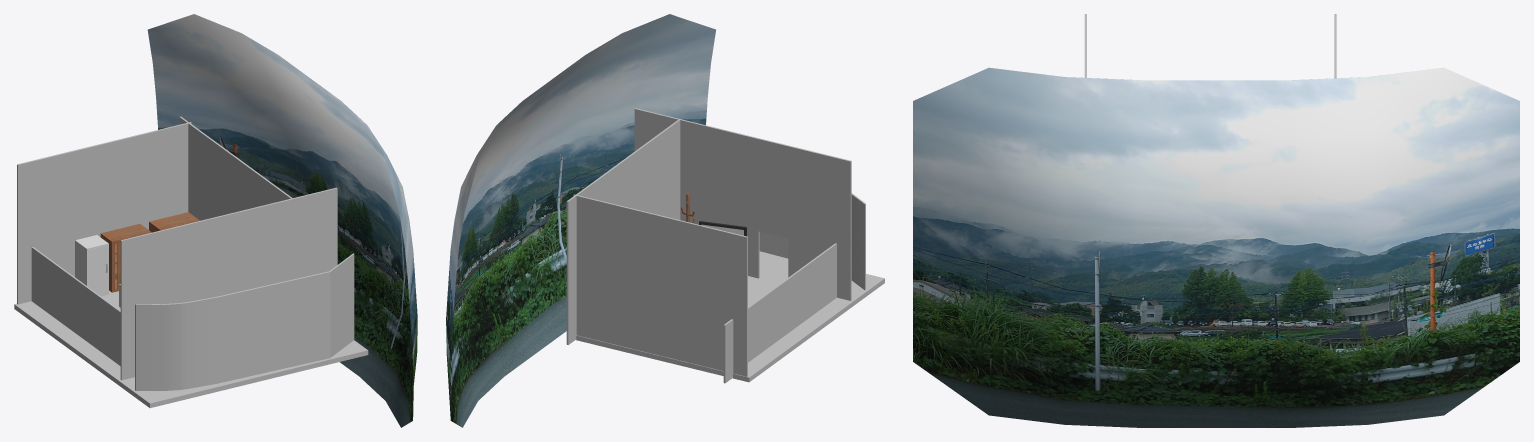
File: stage_3.fbx
3 renders of one model, left to right at view 1: azimuth 30°, elevation 25°; view 2: azimuth 150°, elevation 25°; view 3: azimuth 270°, elevation 25°, orthographic. The views are drawn at different scales.
Parts seen in each view (by area): view 1: pPlane18; view 2: pPlane18; view 3: pPlane18.
Part boxes in pixels (<box>): pPlane18: <box>14,14,417,427</box>; pPlane18: <box>446,14,884,427</box>; pPlane18: <box>913,14,1519,427</box>.
Size of the model in its own units: 12.39 by 11.21 by 18.28.
